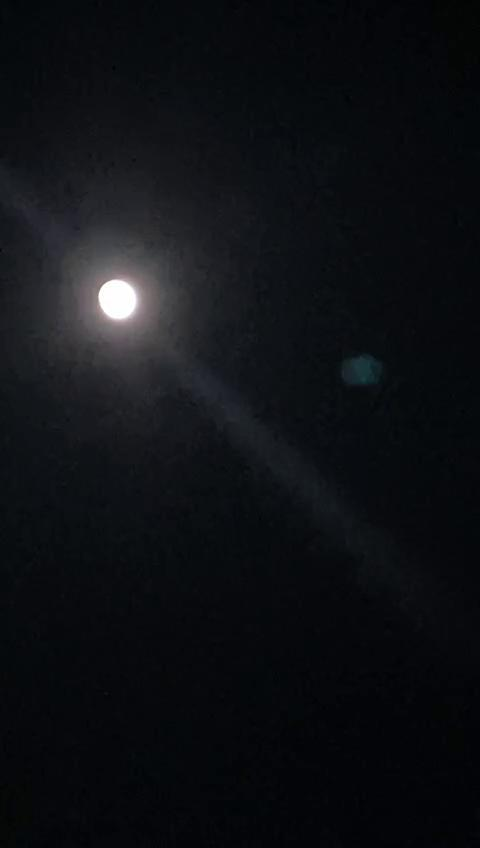moon: (88, 268, 146, 326)
